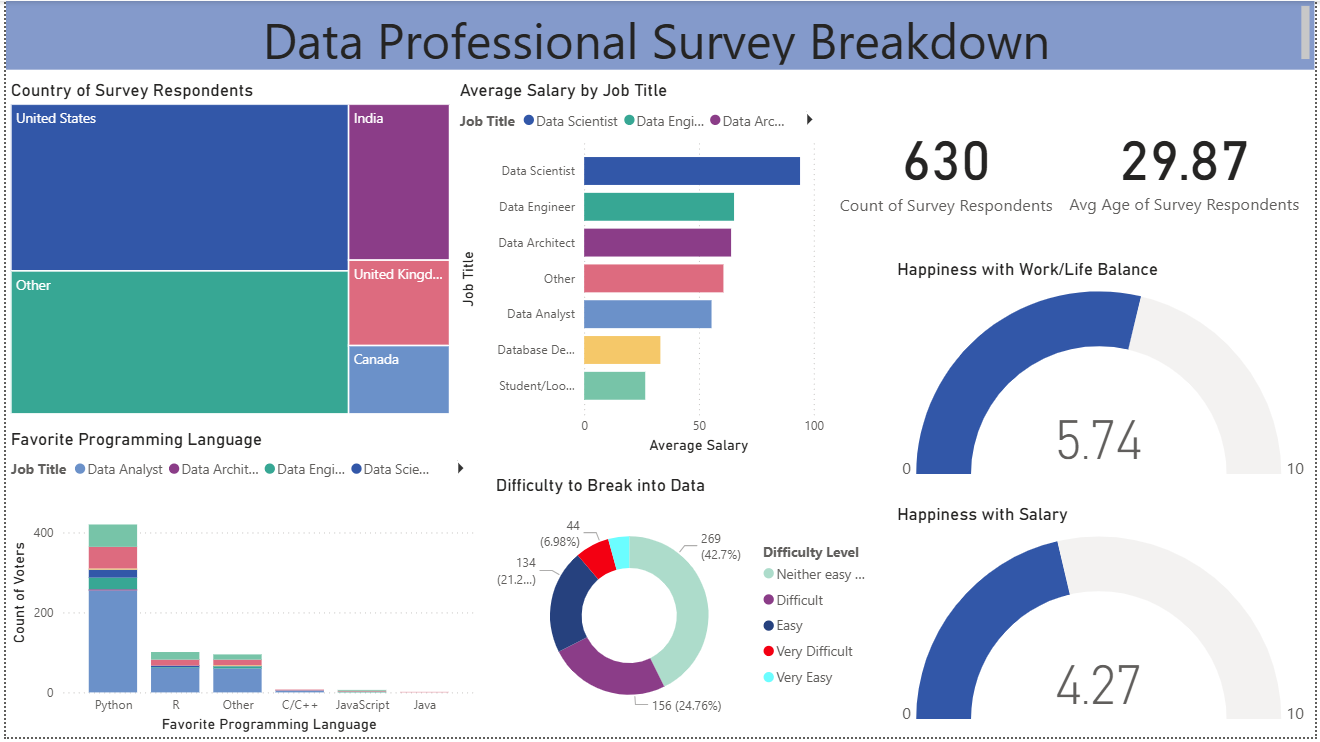

This screenshot's page, from the dashboard's own definition file:
{"tool":"powerbi","page":{"name":"Page 1","canvas":[1280,720],"ordinal":0},"visuals":[{"type":"textbox","box":[0,0,1280.3,67.2],"z":0},{"type":"card","fields":{"Values":["Count(Data Professional Survey.Unique ID)"]},"box":[794.8,76.7,250.1,166.8],"z":1000},{"type":"card","fields":{"Values":["Avg(Data Professional Survey.Q10 - Current Age)"]},"box":[1026.4,76.8,253.9,166],"z":2000},{"type":"barChart","title":"Average Salary by Job Title","fields":{"Category":["Data Professional Survey.Q1 - Which Title Best Fits your Current Role?.1"],"Y":["Avg(Data Professional Survey.Avg Salary)"],"Series":["Data Professional Survey.Q1 - Which Title Best Fits your Current Role?.1"]},"box":[439.1,76.8,366.4,370.5],"z":3000},{"type":"columnChart","title":"Favorite Programming Language","fields":{"Category":["Data Professional Survey.Q5 - Favorite Programming Language.1"],"Y":["CountNonNull(Data Professional Survey.Unique ID)"],"Series":["Data Professional Survey.Q1 - Which Title Best Fits your Current Role?.1"]},"box":[0,418.5,463.8,301.9],"z":4000},{"type":"treemap","title":"Country of Survey Respondents","fields":{"Group":["Data Professional Survey.Q11 - Which Country do you live in?.1"],"Values":["CountNonNull(Data Professional Survey.Q11 - Which Country do you live in?.1)"]},"box":[0,76.8,439.1,332.1],"z":5000},{"type":"gauge","title":"Happiness with Work/Life Balance","fields":{"Y":["Avg(Data Professional Survey.Q6 - How Happy are you in your Current Position with the following? (Work/Life Balance))"],"MinValue":["Min(Data Professional Survey.Q6 - How Happy are you in your Current Position with the following? (Work/Life Balance))"],"MaxValue":["Max(Data Professional Survey.Q6 - How Happy are you in your Current Position with the following? (Work/Life Balance))1"]},"box":[867.2,252.5,413,229.2],"z":6000},{"type":"gauge","title":"Happiness with Salary","fields":{"Y":["Avg(Data Professional Survey.Q6 - How Happy are you in your Current Position with the following? (Salary))"],"MinValue":["Min(Data Professional Survey.Q6 - How Happy are you in your Current Position with the following? (Salary))1"],"MaxValue":["Max(Data Professional Survey.Q6 - How Happy are you in your Current Position with the following? (Salary))2"]},"box":[867.2,491.3,413,229.2],"z":7000},{"type":"donutChart","title":"Difficulty to Break into Data","fields":{"Category":["Data Professional Survey.Q7 - How difficult was it for you to break into Data?"],"Y":["CountNonNull(Data Professional Survey.Q7 - How difficult was it for you to break into Data?)"]},"box":[474.8,463.8,382.8,256.6],"z":8000}]}

Visuals, with their boxes in screenshot pixels (x1, y1, x2, y2), scaled from the page's 1280x720 canvas onto the 1320x742 screenshot:
textbox: x1=0, y1=0, x2=1319, y2=69
card - Count(Data Professional Survey.Unique ID): x1=820, y1=79, x2=1078, y2=251
card - Avg(Data Professional Survey.Q10 - Current Age): x1=1058, y1=79, x2=1319, y2=250
"Average Salary by Job Title" barChart: x1=453, y1=79, x2=831, y2=461
"Favorite Programming Language" columnChart: x1=0, y1=431, x2=478, y2=741
"Country of Survey Respondents" treemap: x1=0, y1=79, x2=453, y2=421
"Happiness with Work/Life Balance" gauge: x1=894, y1=260, x2=1319, y2=496
"Happiness with Salary" gauge: x1=894, y1=506, x2=1319, y2=741
"Difficulty to Break into Data" donutChart: x1=490, y1=478, x2=884, y2=741
